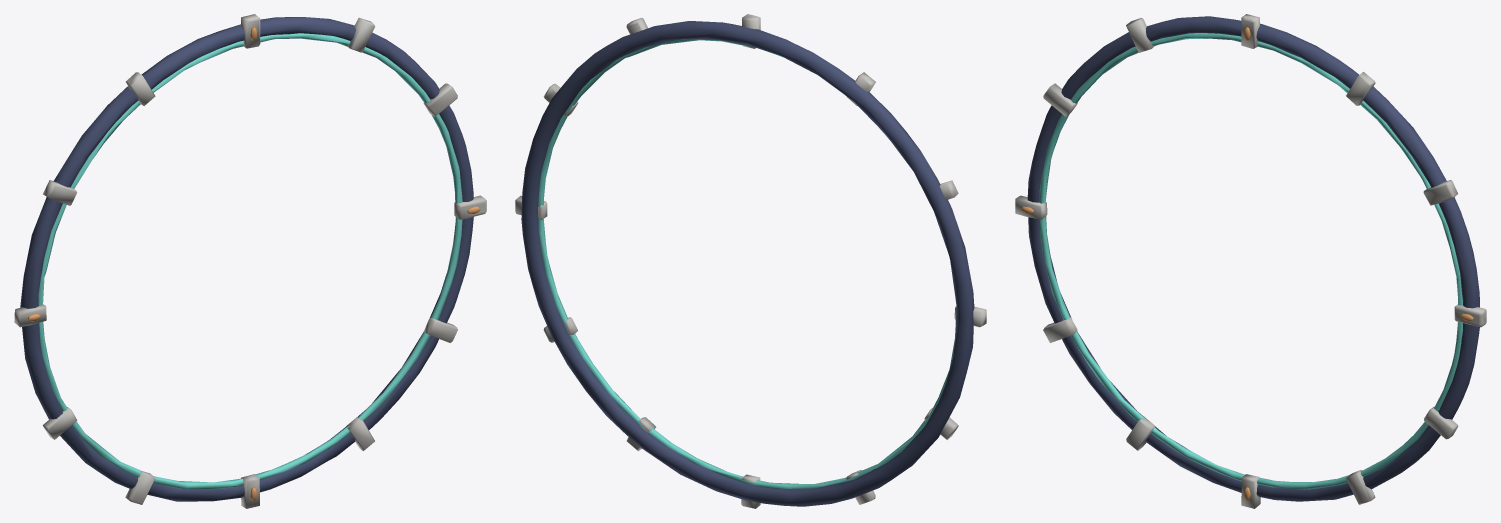
File: portal_ring.glb
3 views of the same model, side by side, from view 1: azimuth 30°, elevation 25°; view 2: azimuth 150°, elevation 25°; view 3: azimuth 330°, elevation 25° (orthographic).
Parts seen in each view (by area): view 1: ring, ring_glow; view 2: ring, ring_glow; view 3: ring, ring_glow.
Boxes of the visible parts, <box> form: ring: <box>14,14,486,508</box>; ring_glow: <box>27,27,480,500</box>; ring: <box>515,14,986,508</box>; ring_glow: <box>538,39,956,488</box>; ring: <box>1015,14,1486,508</box>; ring_glow: <box>1021,27,1473,500</box>.
Bounding box in the file's own units: 4.3 × 4.29 × 0.1984.
